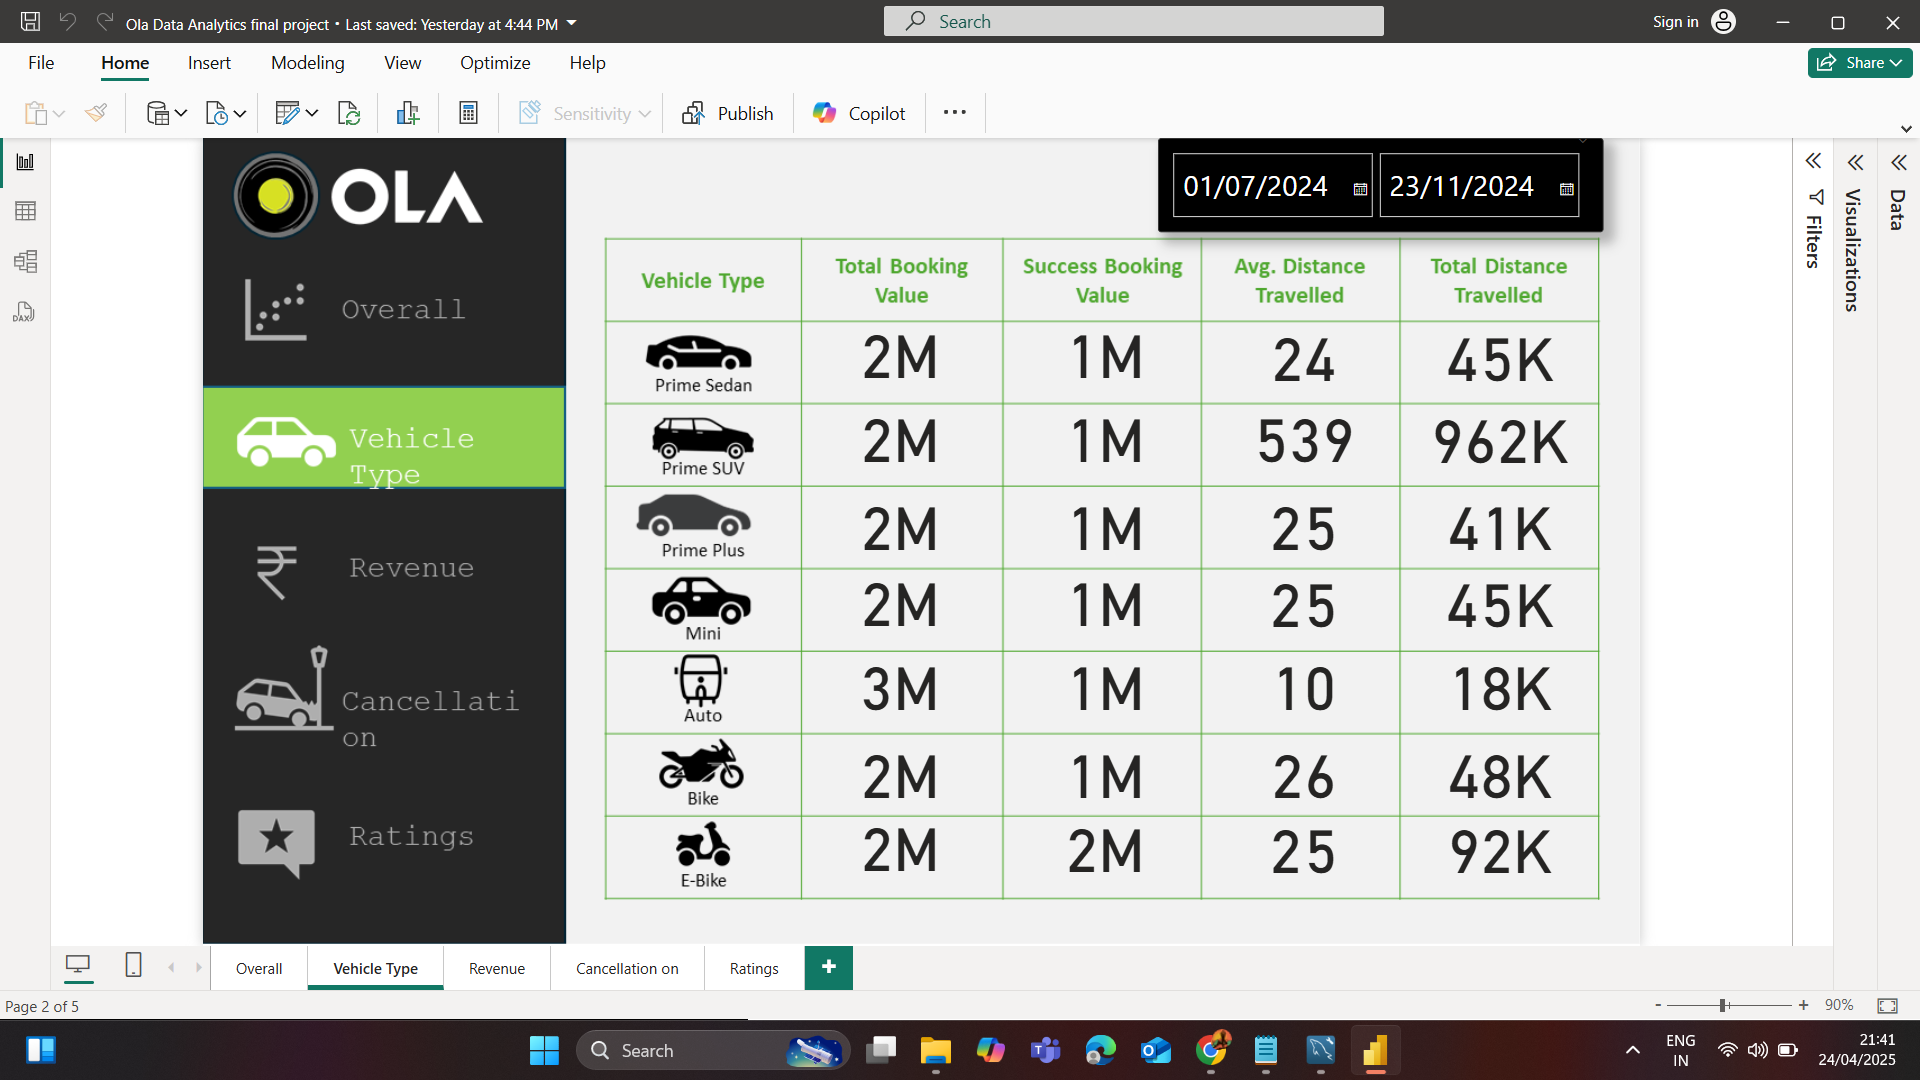

What the dashboard file says about the page in this screenshot:
{"tool":"powerbi","page":{"name":"Vehicle Type","canvas":[1280,720],"ordinal":1},"visuals":[{"type":"actionButton","box":[0,112.2,324.5,89.3],"z":0},{"type":"actionButton","box":[0,340.2,324.5,89.3],"z":1000},{"type":"actionButton","box":[0,451.2,324.5,89.3],"z":2000},{"type":"actionButton","box":[0,581.5,324.5,89.3],"z":3000},{"type":"card","fields":{"Values":["Sum(ola1.Booking_Value)"]},"box":[539.3,167.4,164.7,64.5],"z":4000},{"type":"card","fields":{"Values":["Sum(ola1.Booking_Value)"]},"box":[539.3,241.5,164.7,64.5],"z":5000},{"type":"card","fields":{"Values":["Sum(ola1.Booking_Value)"]},"box":[539.3,462.4,164.7,64.5],"z":6000},{"type":"card","fields":{"Values":["Sum(ola1.Booking_Value)"]},"box":[539.3,319.7,164.7,64.5],"z":7000},{"type":"card","fields":{"Values":["Sum(ola1.Booking_Value)"]},"box":[539.3,387,164.7,64.5],"z":8000},{"type":"card","fields":{"Values":["Sum(ola1.Booking_Value)"]},"box":[539.3,540.7,164.7,64.5],"z":9000},{"type":"card","fields":{"Values":["Sum(ola1.Booking_Value)"]},"box":[539.3,605.1,164.7,64.5],"z":10000},{"type":"card","fields":{"Values":["Sum(ola1.Booking_Value)"]},"box":[721.8,167.4,164.7,64.5],"z":11000},{"type":"card","fields":{"Values":["Sum(ola1.Booking_Value)"]},"box":[721.8,241.5,164.7,64.5],"z":12000},{"type":"card","fields":{"Values":["Sum(ola1.Booking_Value)"]},"box":[721.8,319.7,164.7,64.5],"z":13000},{"type":"card","fields":{"Values":["Sum(ola1.Booking_Value)"]},"box":[721.8,387,164.7,64.5],"z":14000},{"type":"card","fields":{"Values":["Sum(ola1.Booking_Value)"]},"box":[721.8,462.4,164.7,64.5],"z":15000},{"type":"card","fields":{"Values":["Sum(ola1.Booking_Value)"]},"box":[721.8,540.7,164.7,64.5],"z":16000},{"type":"card","fields":{"Values":["Sum(ola1.Booking_Value)"]},"box":[721.8,606.5,164.7,64.5],"z":17000},{"type":"card","fields":{"Values":["Avg(ola1.Ride_Distance)"]},"box":[898.8,168.8,164.7,64.5],"z":18000},{"type":"card","fields":{"Values":["Avg(ola1.Booking_Value)"]},"box":[898.8,241.5,164.7,64.5],"z":19000},{"type":"card","fields":{"Values":["Avg(ola1.Ride_Distance)"]},"box":[898.8,319.7,164.7,64.5],"z":20000},{"type":"card","fields":{"Values":["Avg(ola1.Ride_Distance)"]},"box":[898.8,388.3,164.7,64.5],"z":21000},{"type":"card","fields":{"Values":["Avg(ola1.Ride_Distance)"]},"box":[898.8,462.4,164.7,64.5],"z":22000},{"type":"card","fields":{"Values":["Avg(ola1.Ride_Distance)"]},"box":[898.8,540.7,164.7,64.5],"z":23000},{"type":"card","fields":{"Values":["Avg(ola1.Ride_Distance)"]},"box":[898.8,607.9,164.7,64.5],"z":24000},{"type":"card","fields":{"Values":["Sum(ola1.Ride_Distance)"]},"box":[1073.1,168.8,164.7,64.5],"z":25000},{"type":"card","fields":{"Values":["Sum(ola1.Booking_Value)"]},"box":[1073.1,242.9,164.7,64.5],"z":26000},{"type":"card","fields":{"Values":["Sum(ola1.Ride_Distance)"]},"box":[1073.1,319.7,164.7,64.5],"z":27000},{"type":"card","fields":{"Values":["Sum(ola1.Ride_Distance)"]},"box":[1073.1,388.3,164.7,64.5],"z":28000},{"type":"card","fields":{"Values":["Sum(ola1.Ride_Distance)"]},"box":[1073.1,462.4,164.7,64.5],"z":29000},{"type":"card","fields":{"Values":["Sum(ola1.Ride_Distance)"]},"box":[1073.1,540.7,164.7,64.5],"z":30000},{"type":"card","fields":{"Values":["Sum(ola1.Ride_Distance)"]},"box":[1073.1,607.9,164.7,64.5],"z":31000},{"type":"slicer","title":"Date","fields":{"Values":["ola1.Date"]},"box":[850.8,0,396.6,83.7],"z":32000}]}

Visuals, with their boxes on the page's 1280x720 design canvas (x1, y1, x2, y2). These are canvas units, not pixel positions in the 1920x1080 screenshot, which may show the page scaled, cropped or inside an application window:
actionButton: <bbox>0, 112, 324, 202</bbox>
actionButton: <bbox>0, 340, 324, 430</bbox>
actionButton: <bbox>0, 451, 324, 540</bbox>
actionButton: <bbox>0, 582, 324, 671</bbox>
card - Sum(ola1.Booking_Value): <bbox>539, 167, 704, 232</bbox>
card - Sum(ola1.Booking_Value): <bbox>539, 242, 704, 306</bbox>
card - Sum(ola1.Booking_Value): <bbox>539, 462, 704, 527</bbox>
card - Sum(ola1.Booking_Value): <bbox>539, 320, 704, 384</bbox>
card - Sum(ola1.Booking_Value): <bbox>539, 387, 704, 452</bbox>
card - Sum(ola1.Booking_Value): <bbox>539, 541, 704, 605</bbox>
card - Sum(ola1.Booking_Value): <bbox>539, 605, 704, 670</bbox>
card - Sum(ola1.Booking_Value): <bbox>722, 167, 886, 232</bbox>
card - Sum(ola1.Booking_Value): <bbox>722, 242, 886, 306</bbox>
card - Sum(ola1.Booking_Value): <bbox>722, 320, 886, 384</bbox>
card - Sum(ola1.Booking_Value): <bbox>722, 387, 886, 452</bbox>
card - Sum(ola1.Booking_Value): <bbox>722, 462, 886, 527</bbox>
card - Sum(ola1.Booking_Value): <bbox>722, 541, 886, 605</bbox>
card - Sum(ola1.Booking_Value): <bbox>722, 606, 886, 671</bbox>
card - Avg(ola1.Ride_Distance): <bbox>899, 169, 1064, 233</bbox>
card - Avg(ola1.Booking_Value): <bbox>899, 242, 1064, 306</bbox>
card - Avg(ola1.Ride_Distance): <bbox>899, 320, 1064, 384</bbox>
card - Avg(ola1.Ride_Distance): <bbox>899, 388, 1064, 453</bbox>
card - Avg(ola1.Ride_Distance): <bbox>899, 462, 1064, 527</bbox>
card - Avg(ola1.Ride_Distance): <bbox>899, 541, 1064, 605</bbox>
card - Avg(ola1.Ride_Distance): <bbox>899, 608, 1064, 672</bbox>
card - Sum(ola1.Ride_Distance): <bbox>1073, 169, 1238, 233</bbox>
card - Sum(ola1.Booking_Value): <bbox>1073, 243, 1238, 307</bbox>
card - Sum(ola1.Ride_Distance): <bbox>1073, 320, 1238, 384</bbox>
card - Sum(ola1.Ride_Distance): <bbox>1073, 388, 1238, 453</bbox>
card - Sum(ola1.Ride_Distance): <bbox>1073, 462, 1238, 527</bbox>
card - Sum(ola1.Ride_Distance): <bbox>1073, 541, 1238, 605</bbox>
card - Sum(ola1.Ride_Distance): <bbox>1073, 608, 1238, 672</bbox>
"Date" slicer: <bbox>851, 0, 1247, 84</bbox>
